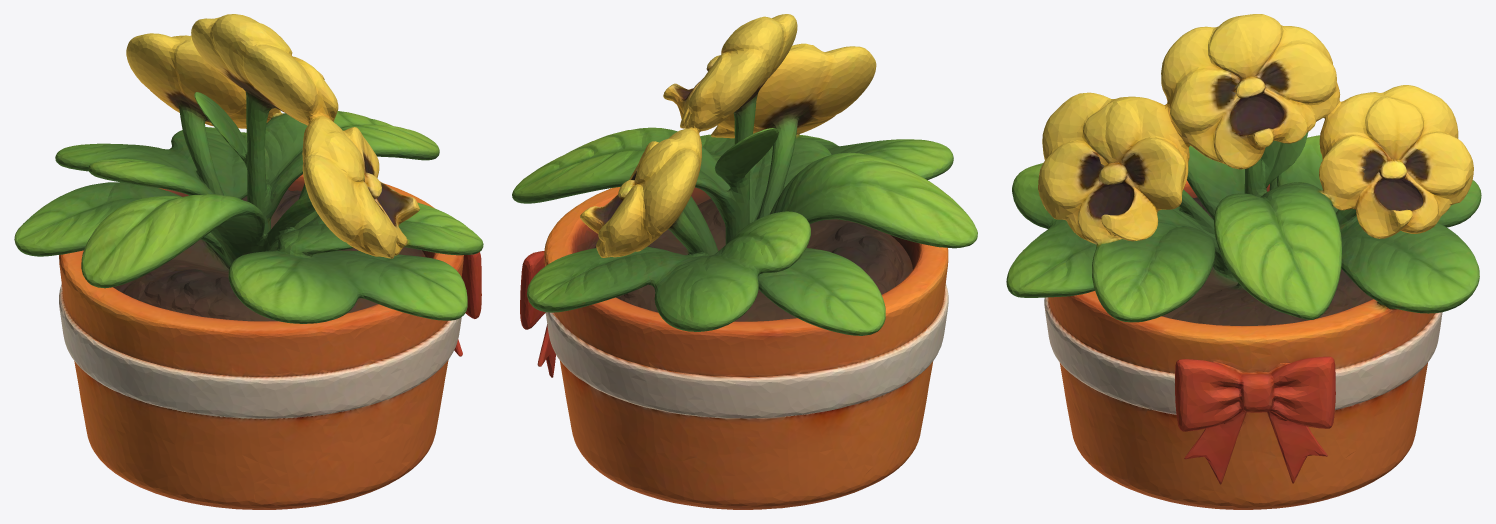
The model's file is flower_8.glb.
3 renders of one model, left to right at view 1: azimuth 30°, elevation 25°; view 2: azimuth 150°, elevation 25°; view 3: azimuth 270°, elevation 25°, orthographic.
Visible parts, largest first — view 1: tripo_node_57803f02-7502-4372-953f-3afb66fe29a6; view 2: tripo_node_57803f02-7502-4372-953f-3afb66fe29a6; view 3: tripo_node_57803f02-7502-4372-953f-3afb66fe29a6.
Boxes of the visible parts, left/top/right/bottom form: tripo_node_57803f02-7502-4372-953f-3afb66fe29a6: left=14, top=14, right=483, bottom=509; tripo_node_57803f02-7502-4372-953f-3afb66fe29a6: left=512, top=14, right=977, bottom=509; tripo_node_57803f02-7502-4372-953f-3afb66fe29a6: left=1006, top=14, right=1481, bottom=509.
Size of the model in its own units: 0.955 by 0.9836 by 0.9994.
1 material, 1 textured.
